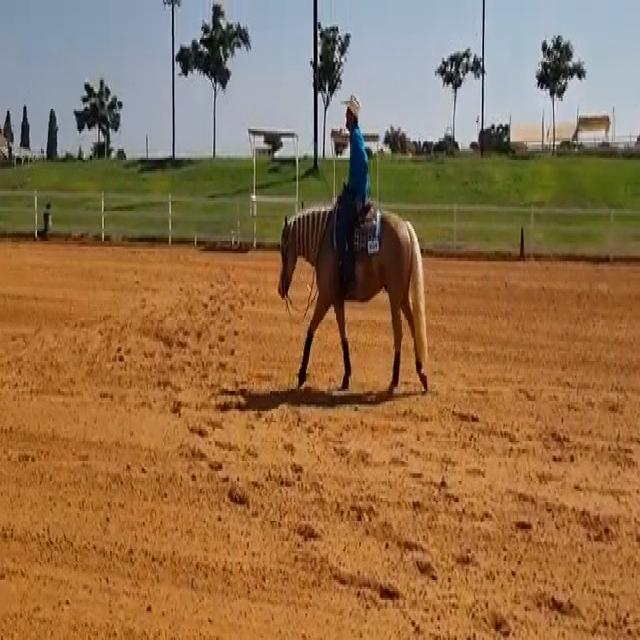horse: (275, 198, 430, 398)
